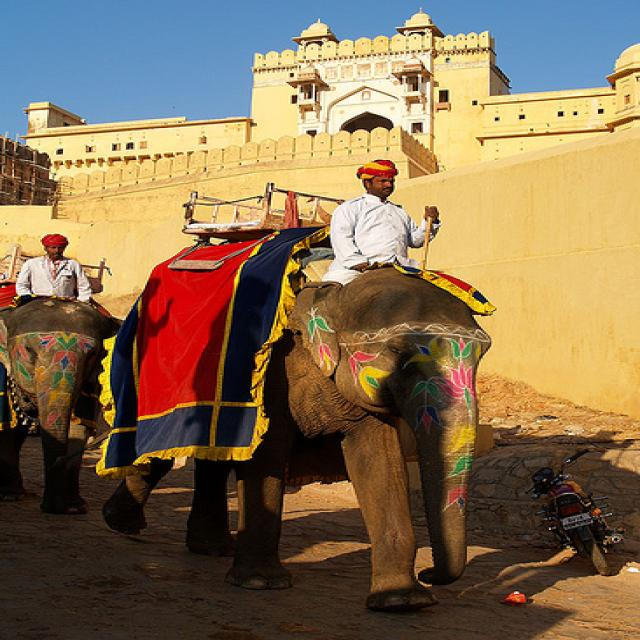motor: (533, 449, 619, 575)
